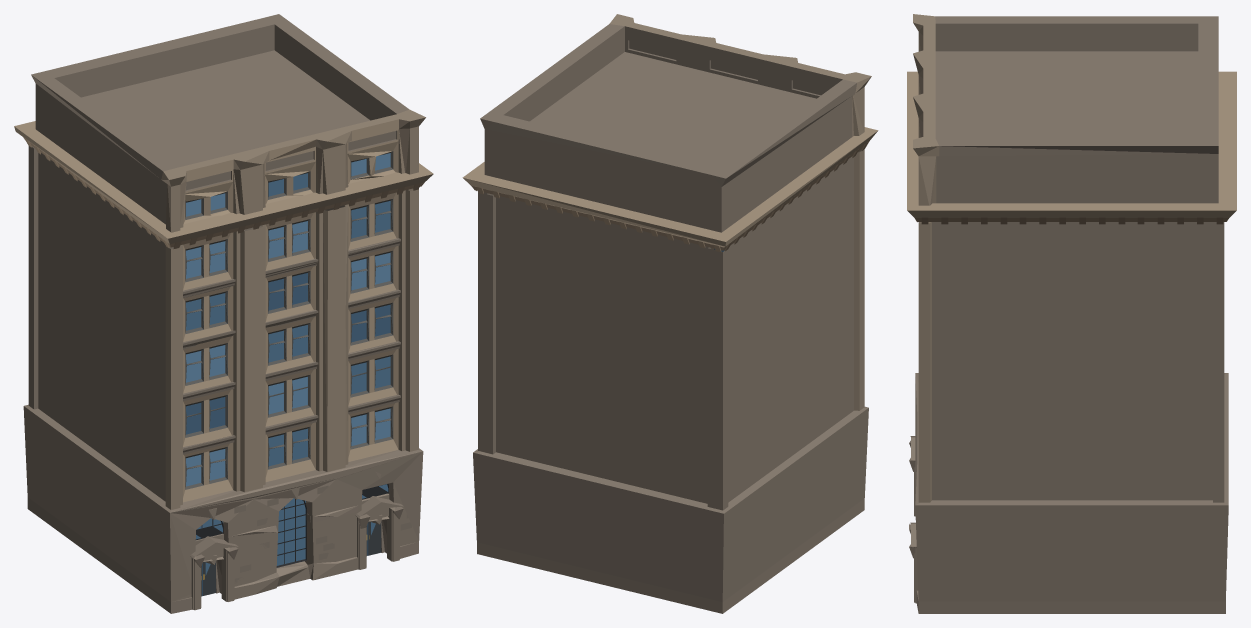
The model's file is sc-office-b-lod1.glb.
3 renders of one model, left to right at view 1: azimuth 30°, elevation 25°; view 2: azimuth 150°, elevation 25°; view 3: azimuth 270°, elevation 25°, orthographic. The views are drawn at different scales.
Visible parts, largest first — view 1: SM_Bld_OfficeOld_Large_02; view 2: SM_Bld_OfficeOld_Large_02; view 3: SM_Bld_OfficeOld_Large_02.
Part boxes in pixels (<box>): SM_Bld_OfficeOld_Large_02: <box>14,14,433,613</box>; SM_Bld_OfficeOld_Large_02: <box>462,14,878,613</box>; SM_Bld_OfficeOld_Large_02: <box>907,14,1236,613</box>.
Bounding box in the file's own units: 21.66 × 34 × 21.71.
1 material, 1 textured.
